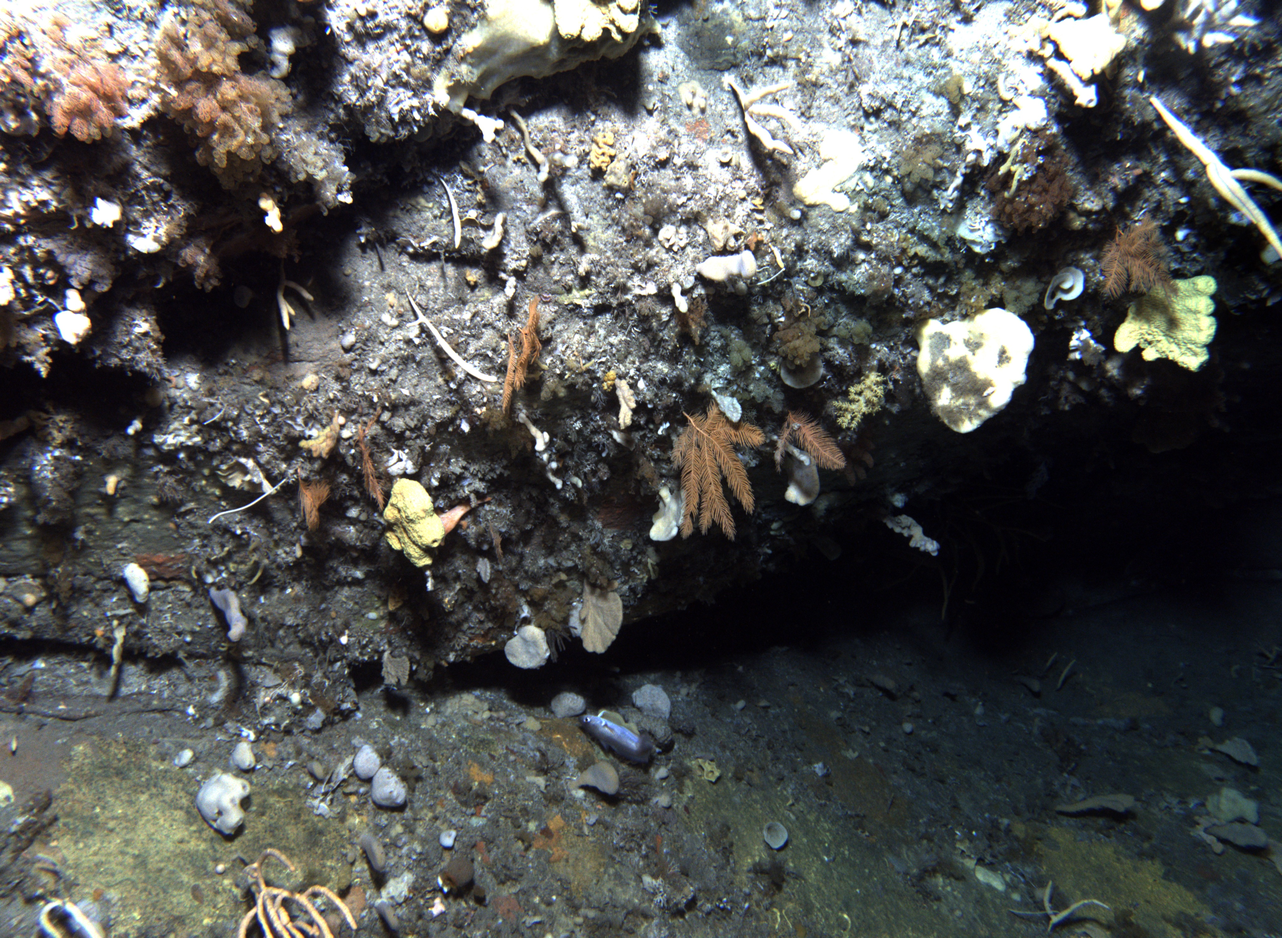Brachionichthyidae: (434, 494, 495, 547)
